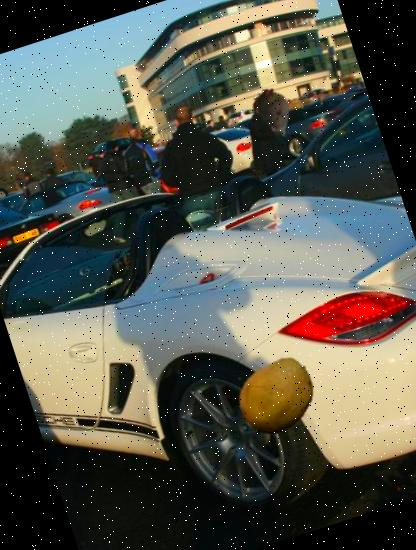Beetroot: (240, 78, 309, 146)
Papaya: (227, 344, 329, 447)
